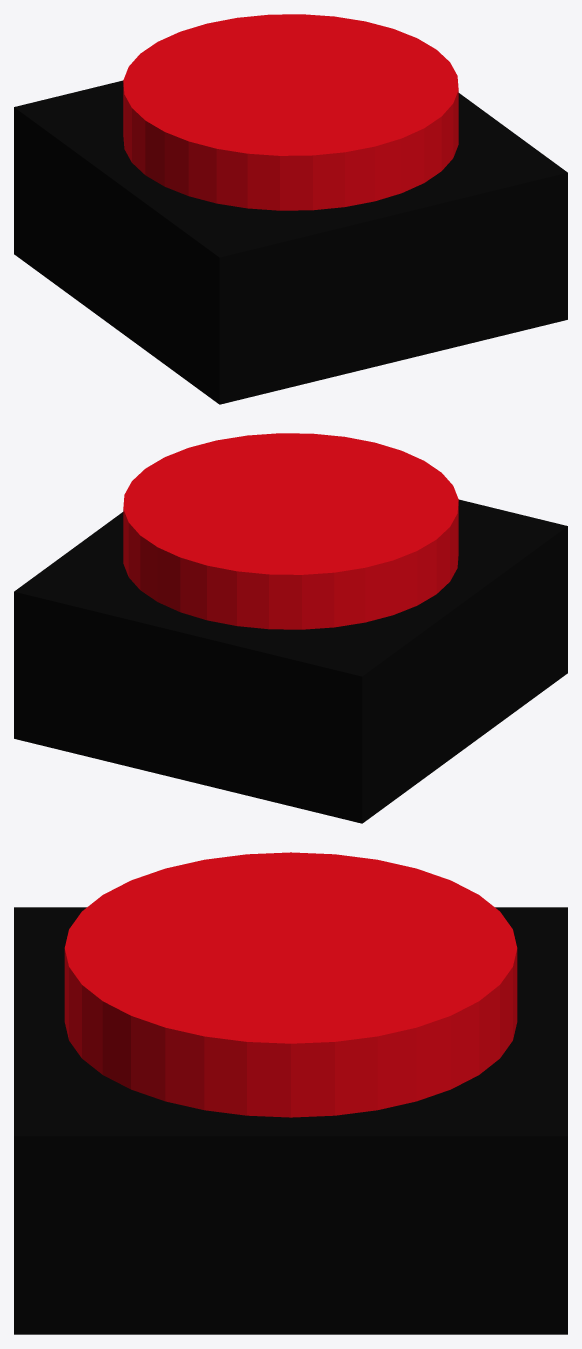
The model's file is button.fbx.
3 renders of one model, top to bottom at view 1: azimuth 30°, elevation 25°; view 2: azimuth 150°, elevation 25°; view 3: azimuth 270°, elevation 25°, orthographic. The views are drawn at different scales.
Visible parts, largest first — view 1: Cube, Cylinder; view 2: Cube, Cylinder; view 3: Cube, Cylinder.
Boxes of the visible parts, x1=… form: Cube: x1=14, y1=80, x2=567, y2=404; Cylinder: x1=123, y1=14, x2=458, y2=210; Cube: x1=14, y1=499, x2=567, y2=823; Cylinder: x1=123, y1=433, x2=458, y2=629; Cube: x1=14, y1=907, x2=567, y2=1334; Cylinder: x1=64, y1=852, x2=517, y2=1117.
Size of the model in its own units: 239 by 133 by 245.
